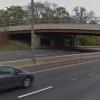Car: (1, 58, 35, 93)
